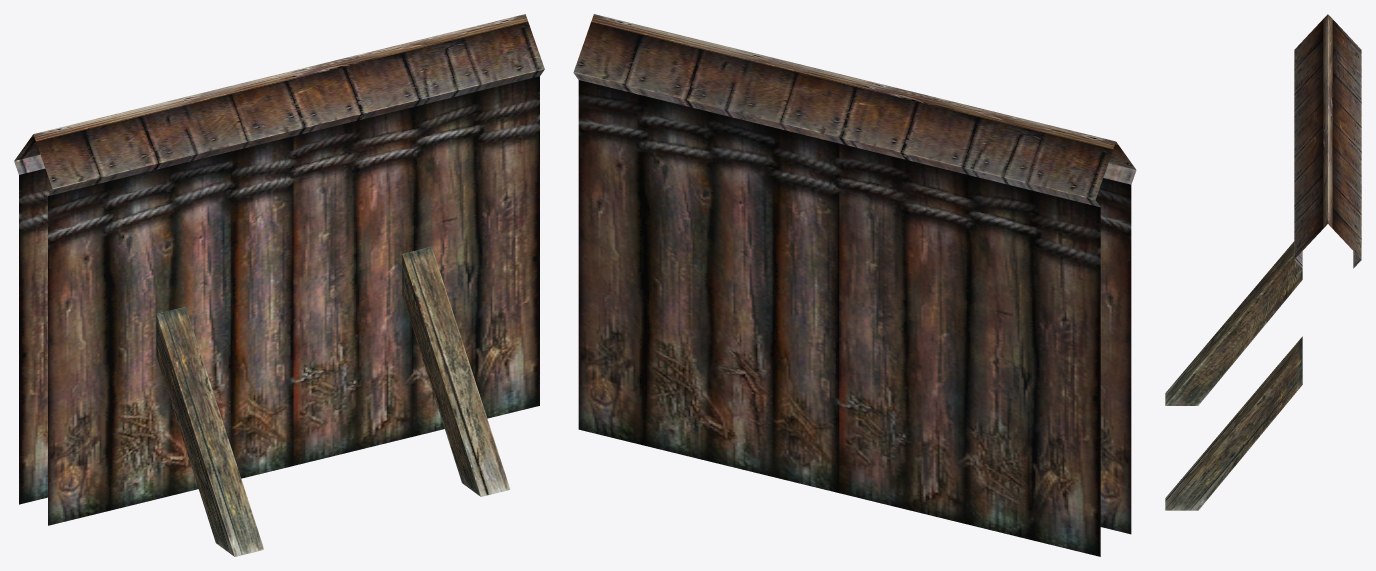
The model's file is mhouse20j.glb.
The picture shows the model from 3 angles, left to right: view 1: azimuth 30°, elevation 25°; view 2: azimuth 150°, elevation 25°; view 3: azimuth 270°, elevation 25°; orthographic projection. The views are drawn at different scales.
Parts seen in each view (by area): view 1: mhouse20j-col; view 2: mhouse20j-col; view 3: mhouse20j-col.
Part boxes in pixels (x1,y1,x2,y2): mhouse20j-col: [14, 14, 544, 556]; mhouse20j-col: [573, 14, 1136, 556]; mhouse20j-col: [1165, 14, 1361, 510].
Size of the model in its own units: 5 by 3.7 by 1.98.
Materials: 4 (4 with a texture image).
